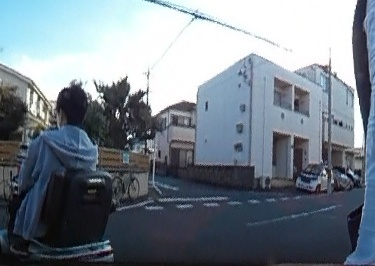person: (10, 82, 106, 252)
